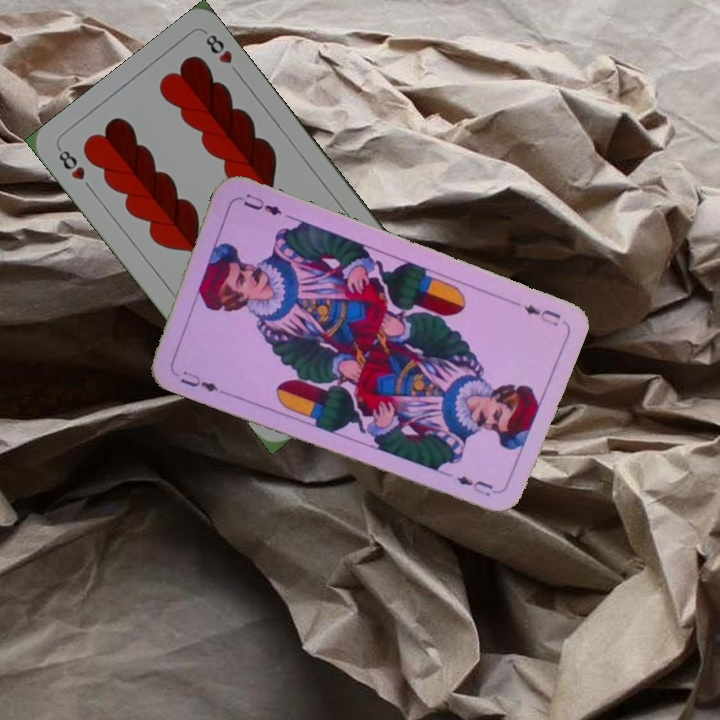EU: (176, 366, 221, 395), (519, 300, 564, 329)
H8: (54, 144, 88, 183)
